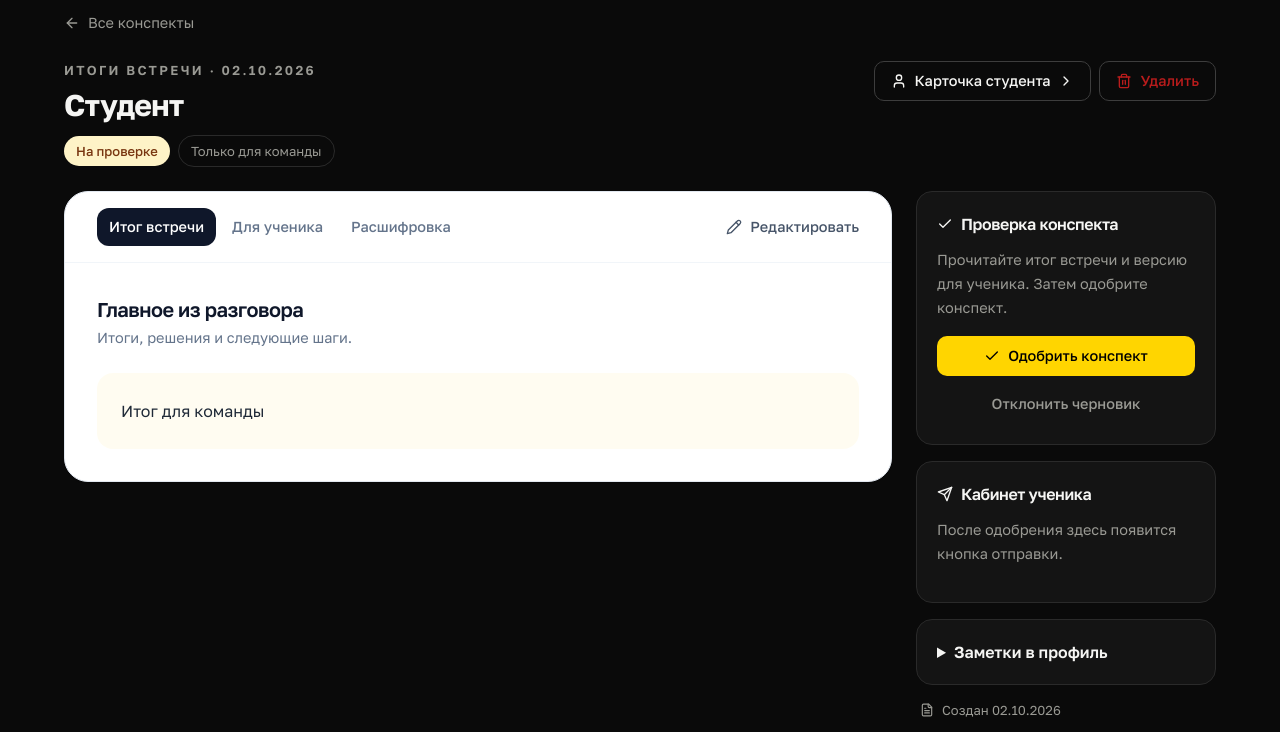
переключает версии и расшифровку без открытия редактора
The width and height of the screenshot is (1280, 732).
Expected: the text "Итог для команды" is shown, [121, 401, 264, 421]
Click the tab "Для ученика": click(278, 227) [220, 208, 335, 246]
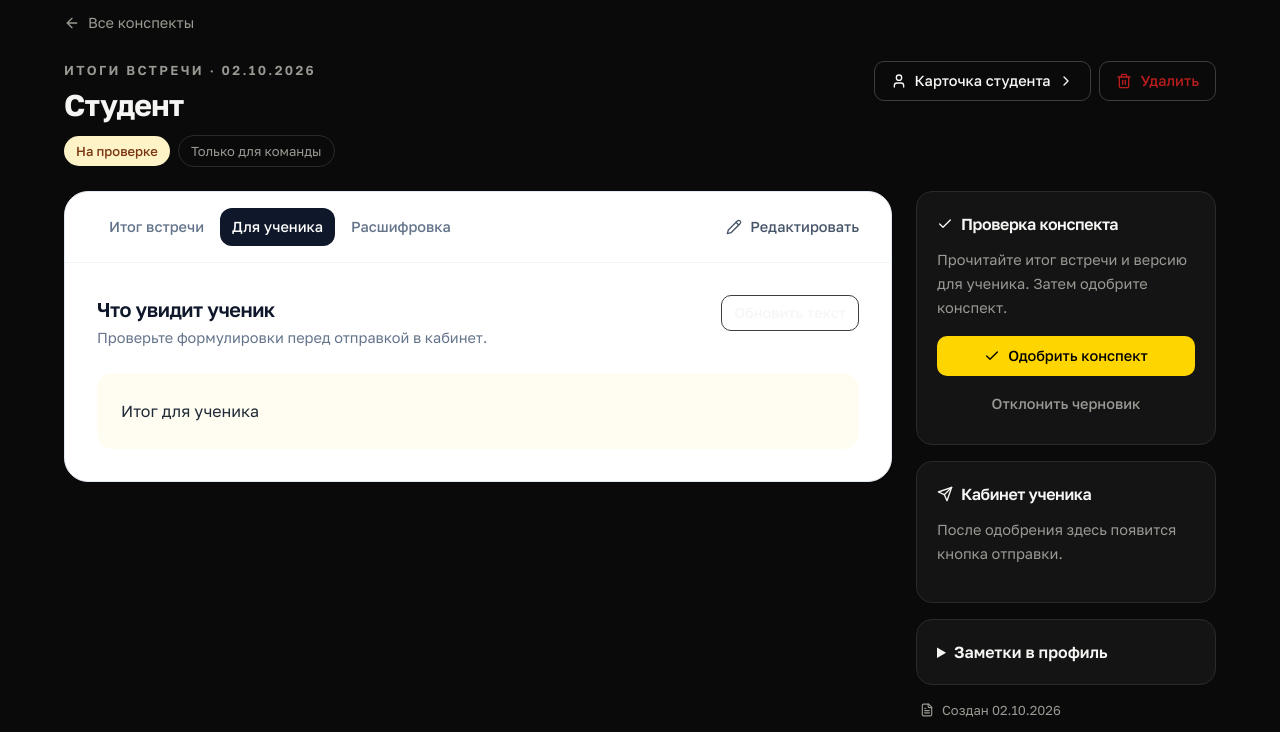
Result: the text "Итог для ученика" is shown at [121, 401, 259, 421]
Click the tab "Расшифровка": click(401, 227) [339, 208, 463, 246]
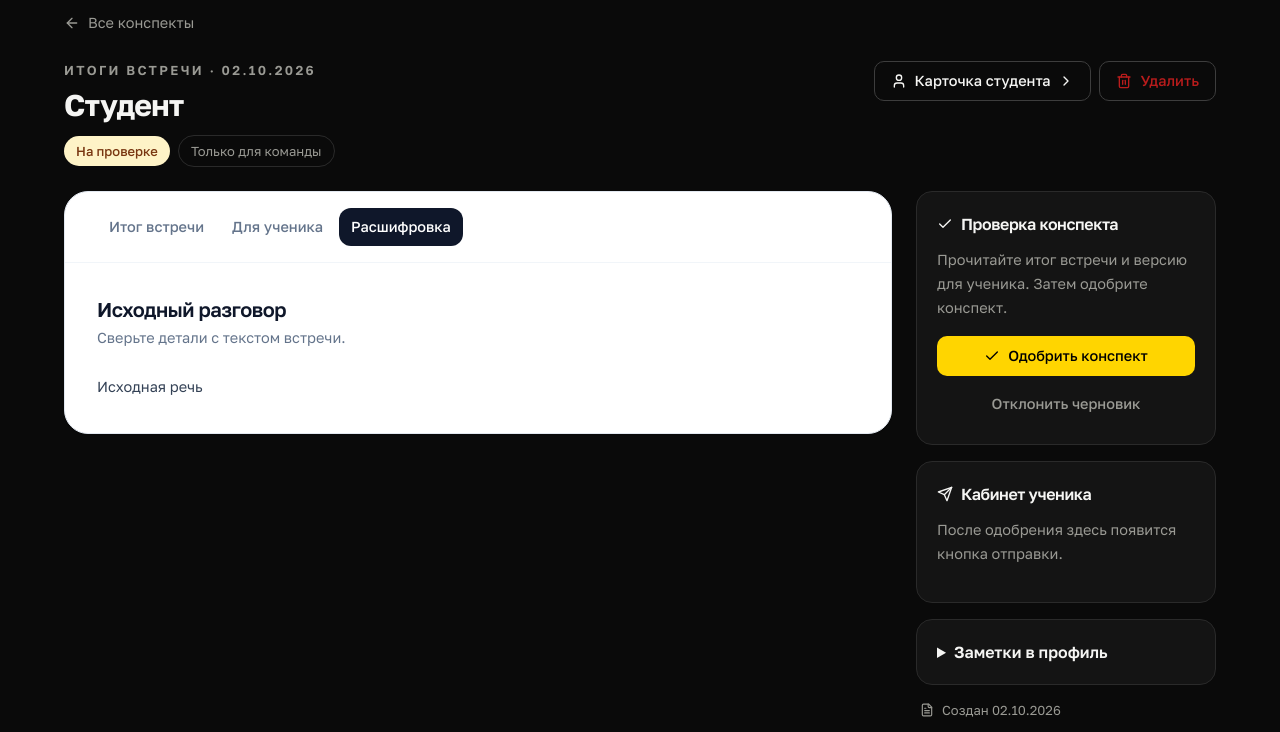
Result: the text "Исходная речь" is shown at [97, 378, 203, 395]
